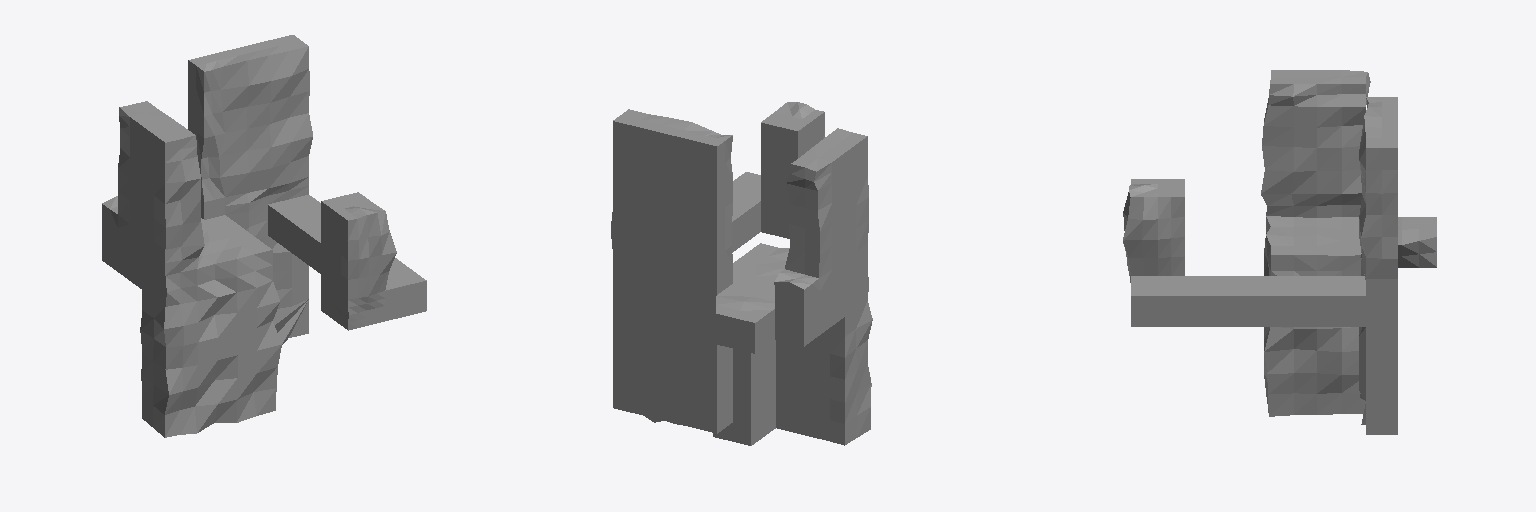
The model's file is Tutorial2B.obj.
3 views of the same model, side by side, from view 1: azimuth 30°, elevation 25°; view 2: azimuth 150°, elevation 25°; view 3: azimuth 270°, elevation 25° (orthographic).
Visible parts, largest first — view 1: Cube.001_Cube.002; view 2: Cube.001_Cube.002; view 3: Cube.001_Cube.002.
Part boxes in pixels (x1,y1,x2,y2): Cube.001_Cube.002: (102, 35, 426, 437); Cube.001_Cube.002: (611, 102, 872, 445); Cube.001_Cube.002: (1123, 70, 1436, 434).
Size of the model in its own units: 13.35 by 20.29 by 18.48.